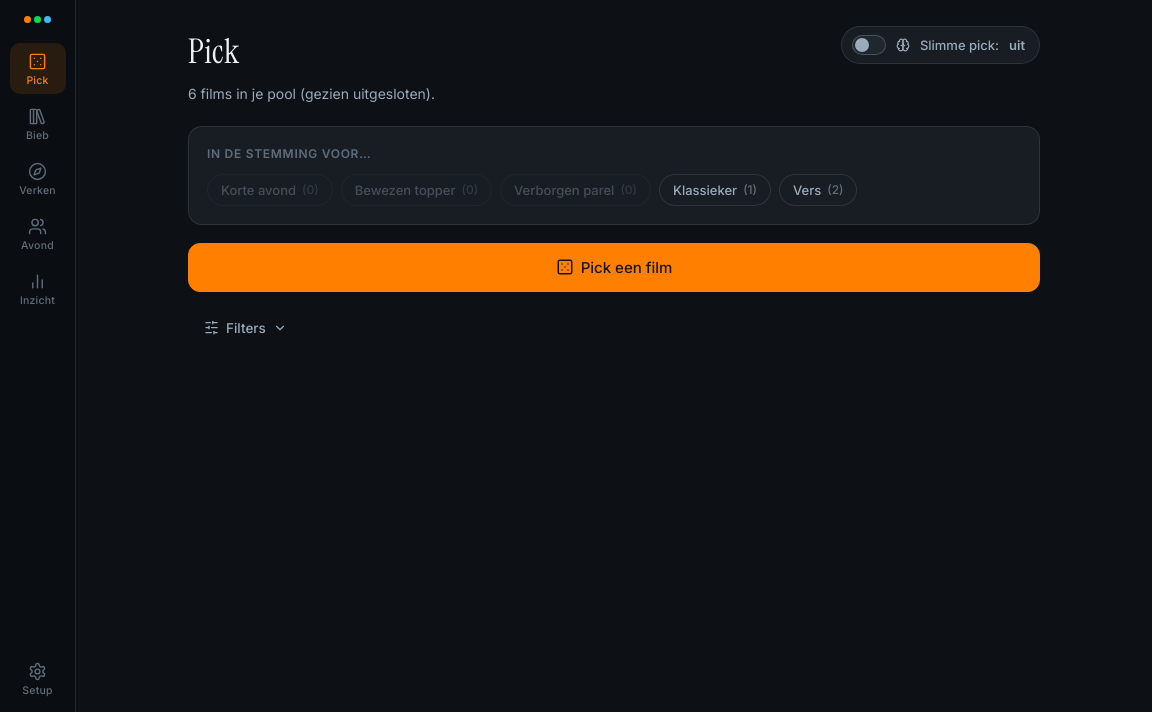
Test: V2 smoke › i18n: taal wisselen naar Engels vertaalt de tabnamen
Expected: the text "Verken" is shown, 19,184 -> 56,197
Click the button labelled "Setup" at (38, 678), box 10,653 -> 66,704
(page scrolled)
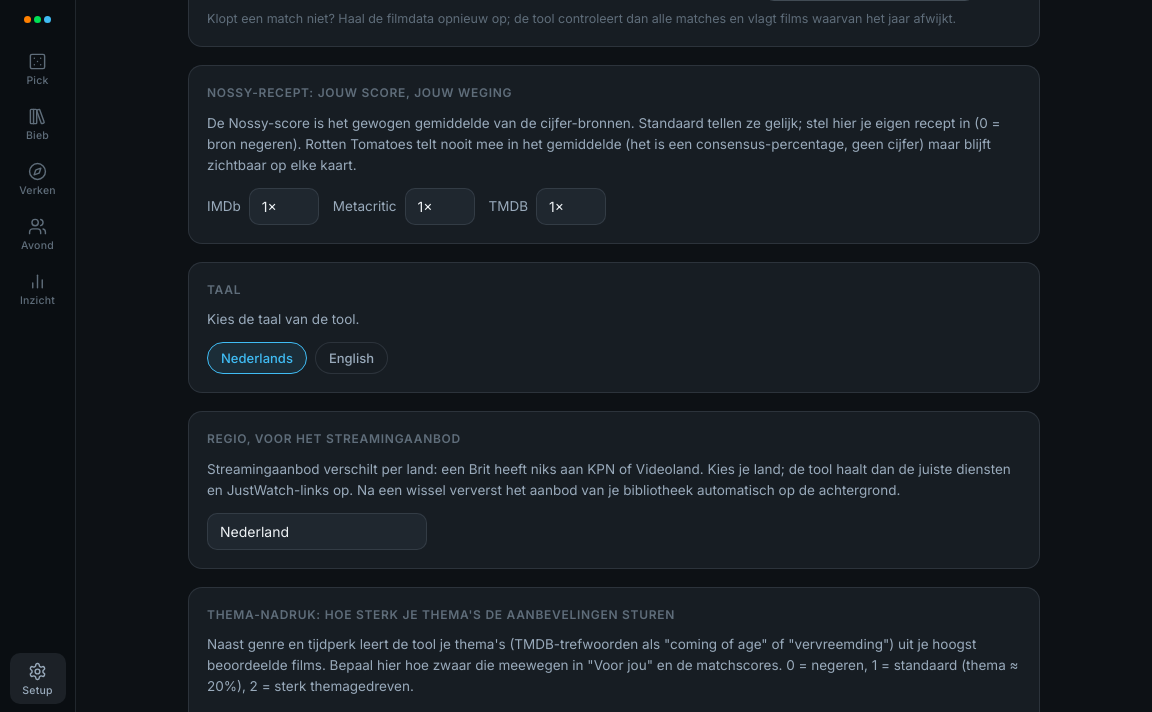
Click the button "English" at (351, 358), box 315,342 -> 388,374
(page scrolled)
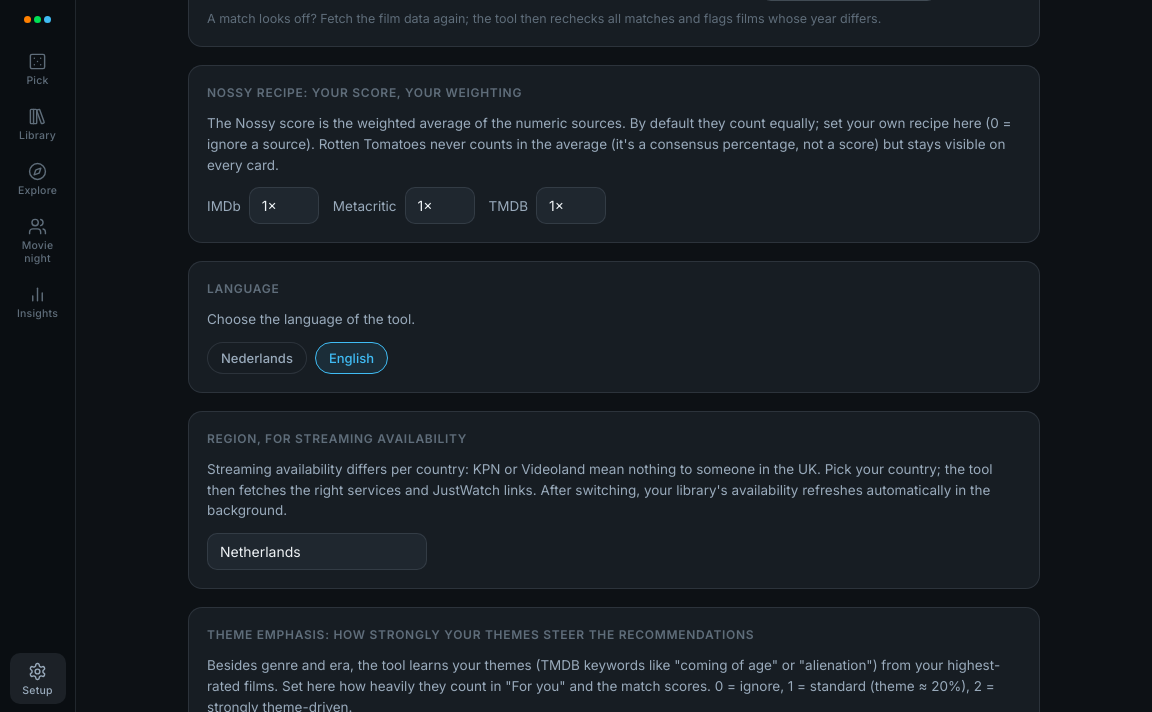
Expected: the text "Explore" is shown, 18,184 -> 57,197
Expected: the text "Library" is shown, 19,129 -> 56,142
Expected: the button "Verken" is gone
